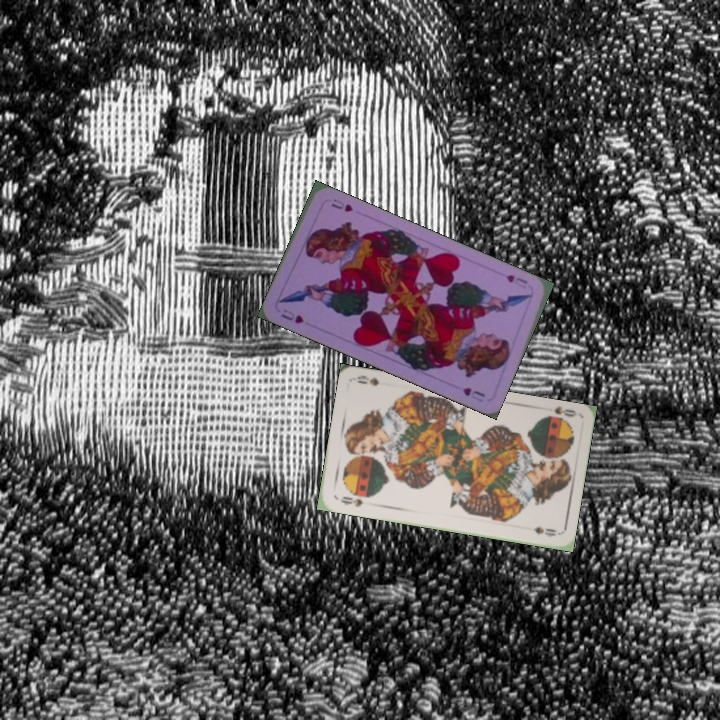HU: (277, 305, 306, 326), (502, 270, 530, 291)
SO: (337, 492, 366, 510), (549, 403, 579, 419)
